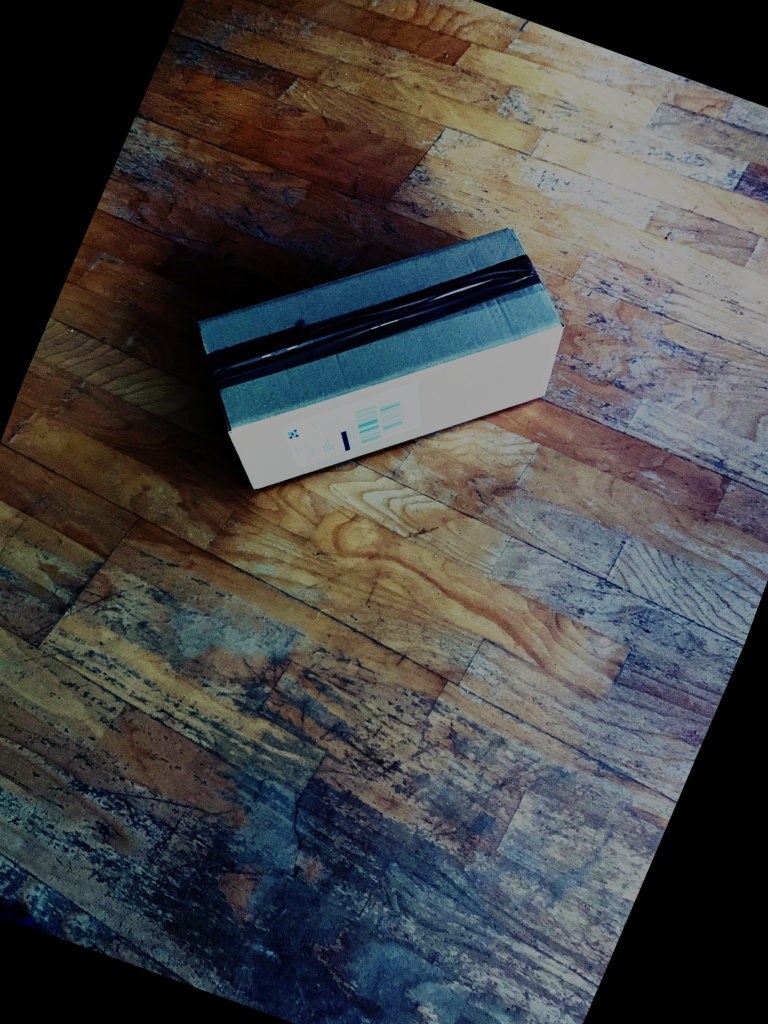good-parcel: (187, 224, 566, 504)
